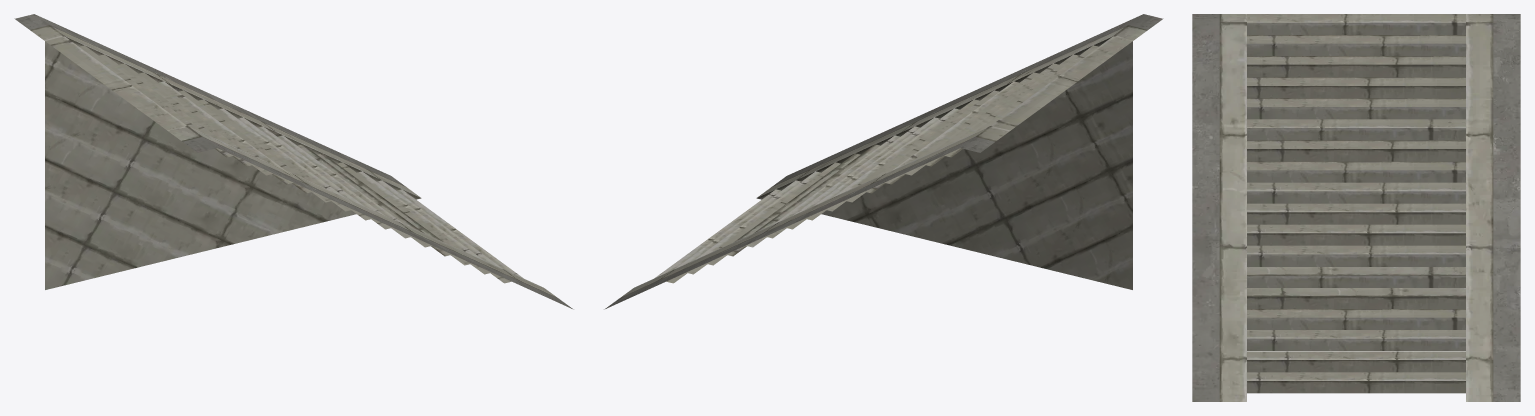
The picture shows the model from 3 angles, left to right: view 1: azimuth 30°, elevation 25°; view 2: azimuth 150°, elevation 25°; view 3: azimuth 270°, elevation 25°; orthographic projection. The views are drawn at different scales.
Parts seen in each view (by area): view 1: body0_model0_lod0_mesh1, body0_model0_lod0_mesh0; view 2: body0_model0_lod0_mesh1, body0_model0_lod0_mesh0; view 3: body0_model0_lod0_mesh1, body0_model0_lod0_mesh0.
Part boxes in pixels (left/top/right/bottom): body0_model0_lod0_mesh1: left=30, top=25, right=558, bottom=298; body0_model0_lod0_mesh0: left=14, top=14, right=573, bottom=309; body0_model0_lod0_mesh1: left=619, top=25, right=1147, bottom=298; body0_model0_lod0_mesh0: left=604, top=14, right=1163, bottom=309; body0_model0_lod0_mesh1: left=1219, top=14, right=1493, bottom=401; body0_model0_lod0_mesh0: left=1192, top=14, right=1520, bottom=401.
Bounding box in the file's own units: 228 × 144 × 192.
Materials: 2 (2 with a texture image).
